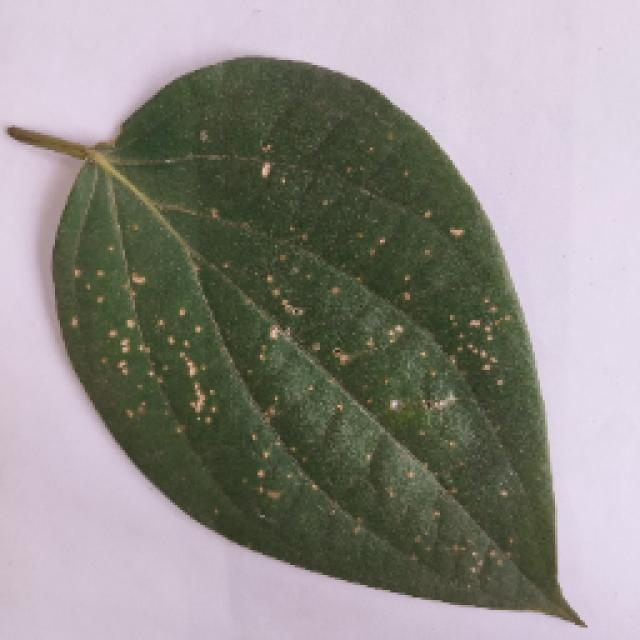pollu-disease: (0, 64, 592, 627)
